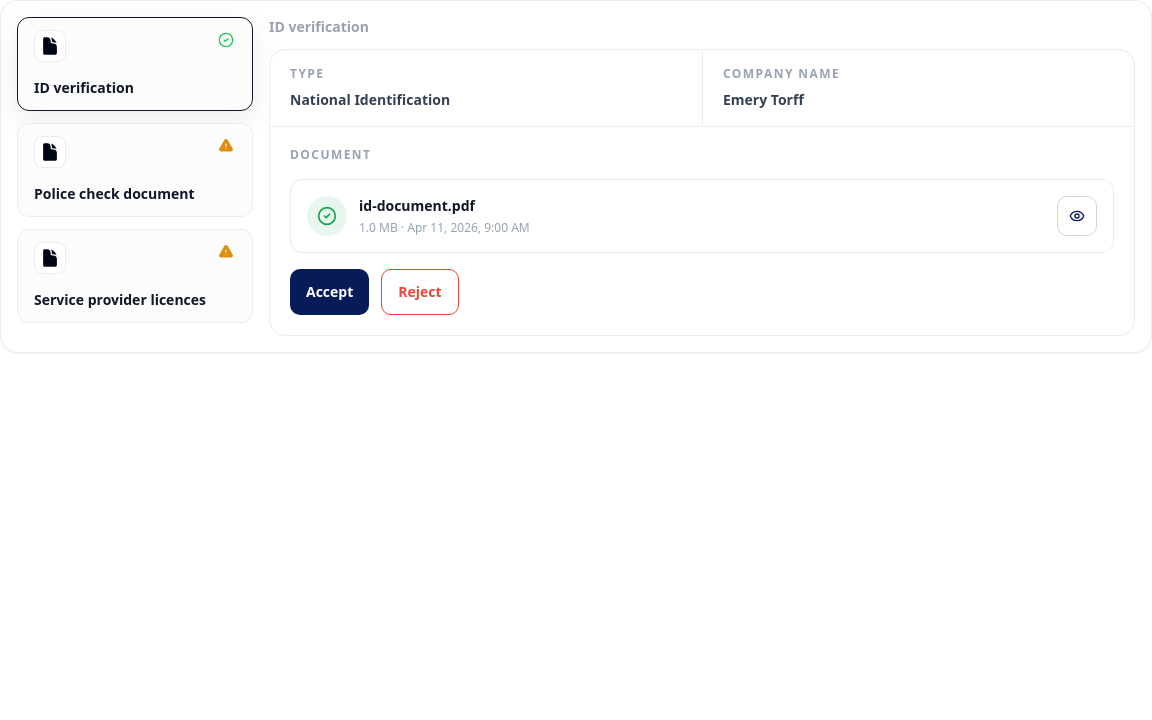
ContractorKycTab (read-only review) › views and accepts a pending ID document
Check: the text "id-document.pdf" is shown, box [359,196,475,215]
Click the button named "View id-document.pdf": x=1077, y=216 [1057,196,1097,236]
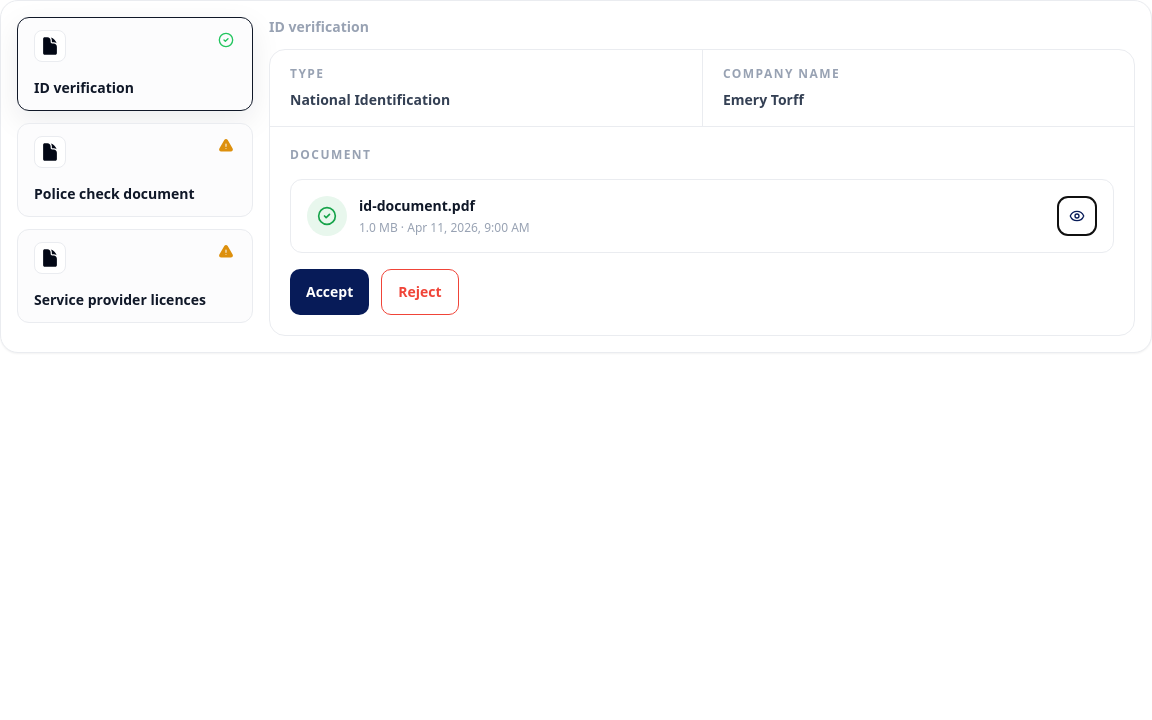
Click the button "Accept": x=330, y=292 [290,269,369,315]
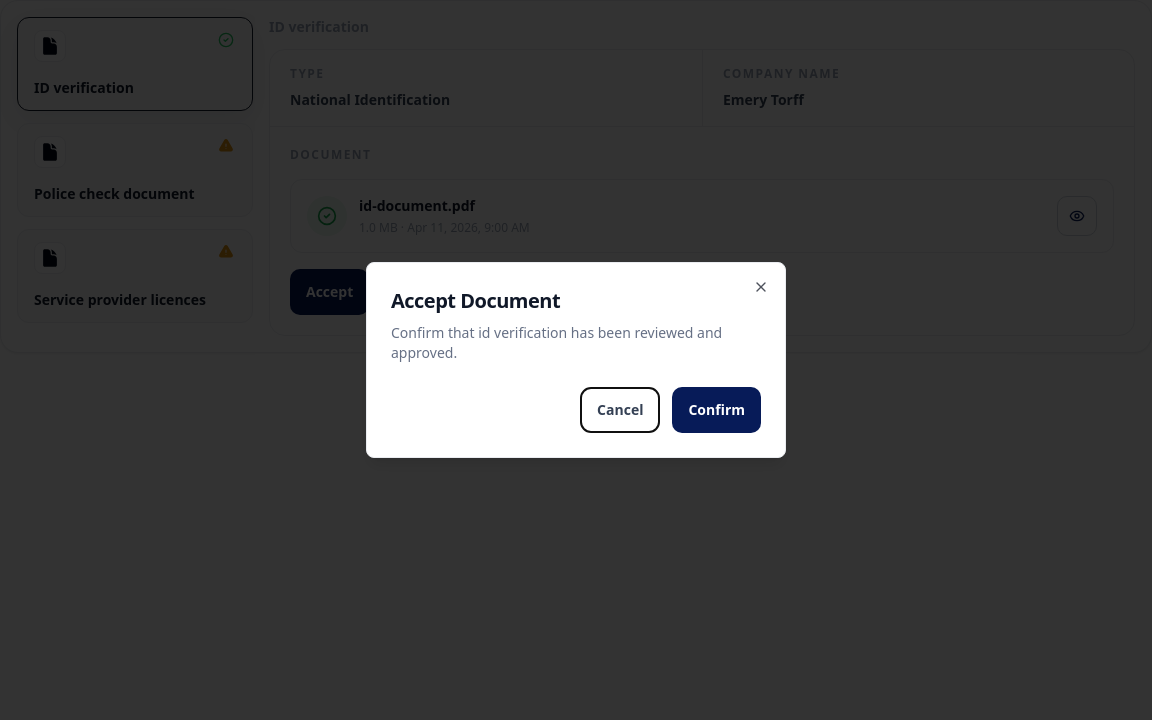
Check: the dialog "Accept Document" is shown, box [366,262,786,458]
Click the button "Confirm": x=717, y=410 [672,387,761,433]
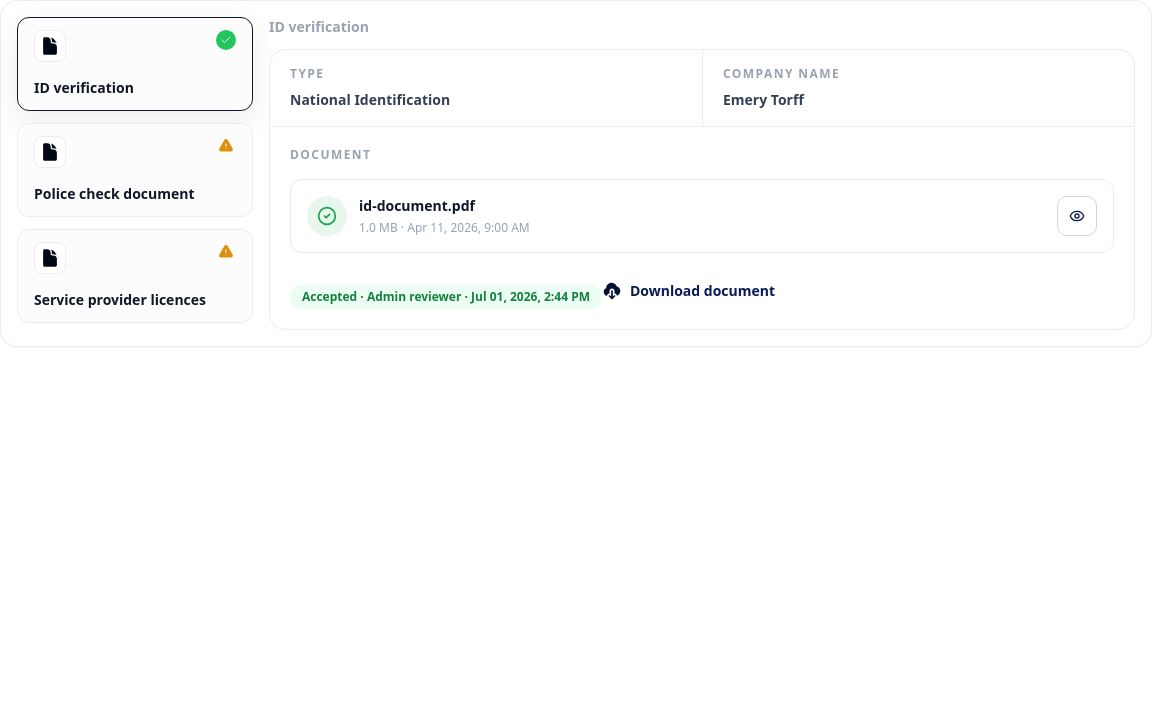
Check: the text "Accepted · Admin reviewer · Jul 01, 2026, 2:44 PM" is shown, box [290,285,602,309]
Check: the link "Download document" is shown, box [602,281,775,301]
